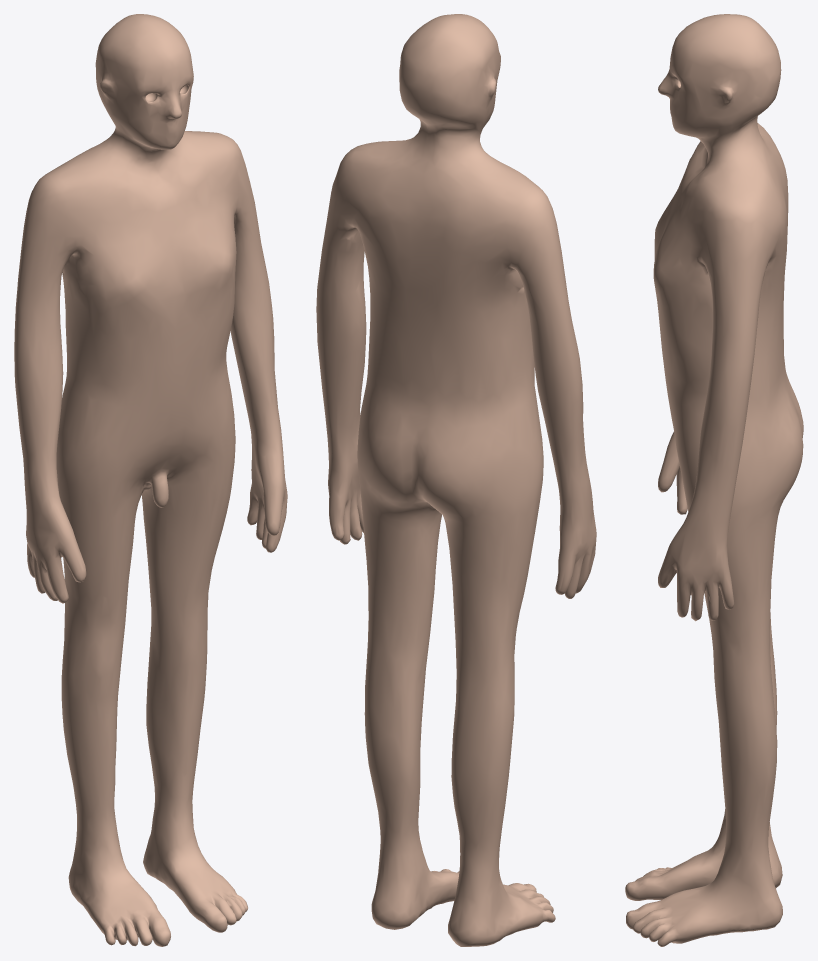
Rendered from pediatric_adolescent_male.surface.LOD1.glb.
3 renders of one model, left to right at view 1: azimuth 30°, elevation 25°; view 2: azimuth 150°, elevation 25°; view 3: azimuth 270°, elevation 25°, orthographic. The views are drawn at different scales.
Parts seen in each view (by area): view 1: PEDIATRIC.ADOLESCENT.MALE.SURFACE.SKIN; view 2: PEDIATRIC.ADOLESCENT.MALE.SURFACE.SKIN; view 3: PEDIATRIC.ADOLESCENT.MALE.SURFACE.SKIN.
Part boxes in pixels (box(x1,y1,x2,y2)): PEDIATRIC.ADOLESCENT.MALE.SURFACE.SKIN: box(14, 14, 287, 946); PEDIATRIC.ADOLESCENT.MALE.SURFACE.SKIN: box(316, 14, 596, 946); PEDIATRIC.ADOLESCENT.MALE.SURFACE.SKIN: box(625, 14, 803, 946).
Size of the model in its own units: 0.4997 by 1.67 by 0.3005.
